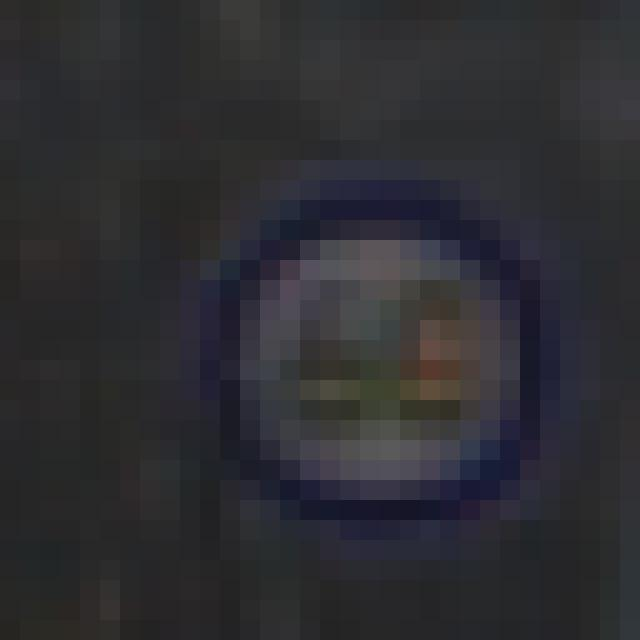SPEED-LIMIT-60: (206, 172, 558, 546)
